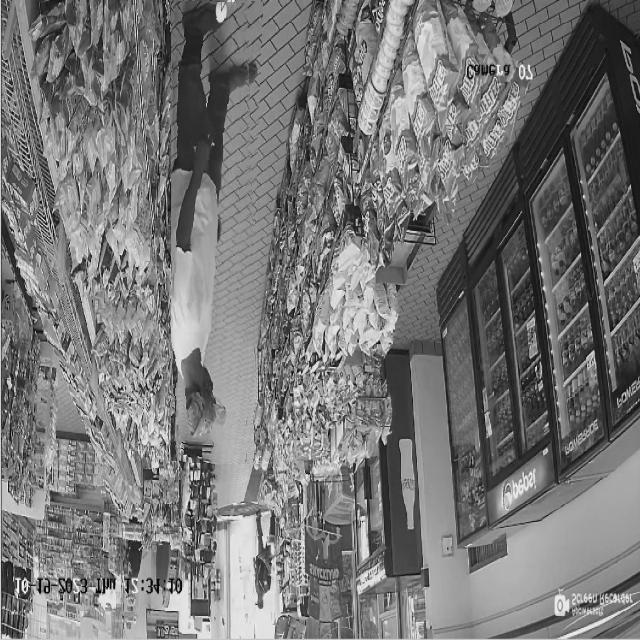Normal: (171, 0, 258, 464), (246, 505, 280, 624)
